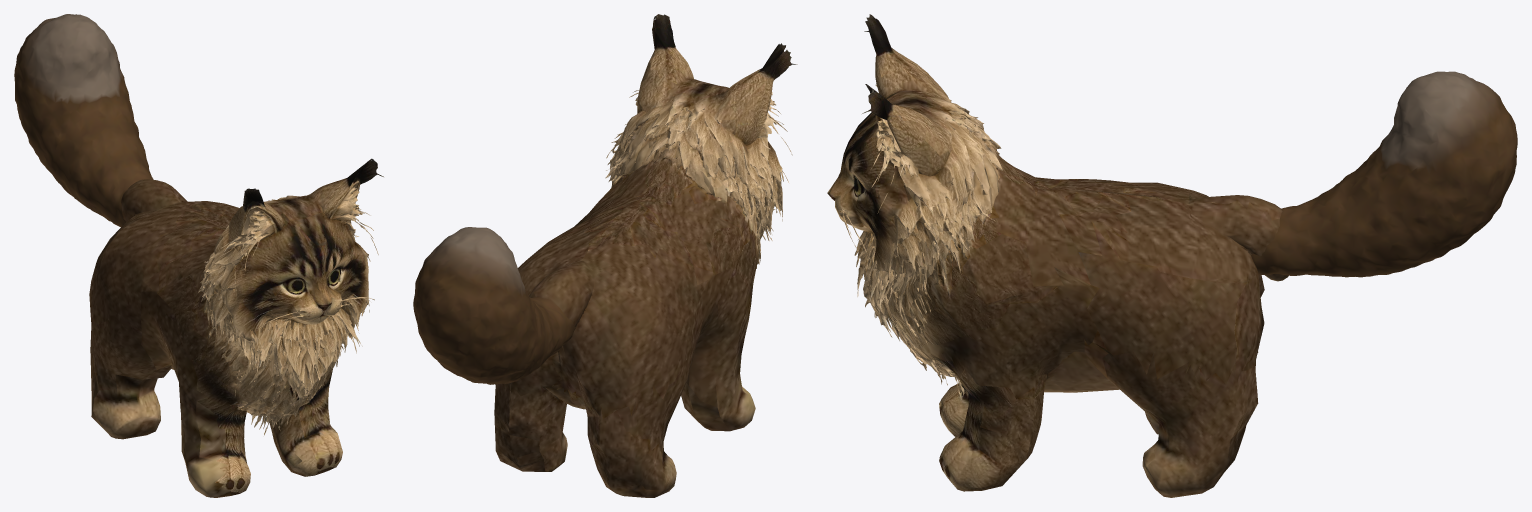
File: meshy-mainecoon.glb
3 renders of one model, left to right at view 1: azimuth 30°, elevation 25°; view 2: azimuth 150°, elevation 25°; view 3: azimuth 270°, elevation 25°, orthographic. The views are drawn at different scales.
Parts seen in each view (by area): view 1: Mesh_0, tail.001; view 2: Mesh_0, tail.001; view 3: Mesh_0, tail.001.
Part boxes in pixels (left/top/right/bottom): Mesh_0: left=89, top=158, right=383, bottom=497; tail.001: left=14, top=14, right=153, bottom=227; Mesh_0: left=494, top=14, right=797, bottom=497; tail.001: left=413, top=227, right=577, bottom=384; Mesh_0: left=827, top=14, right=1288, bottom=497; tail.001: left=1251, top=71, right=1517, bottom=277.
Bounding box in the file's own units: 0.9379 × 1.82 × 2.78.
2 materials, 1 textured.
